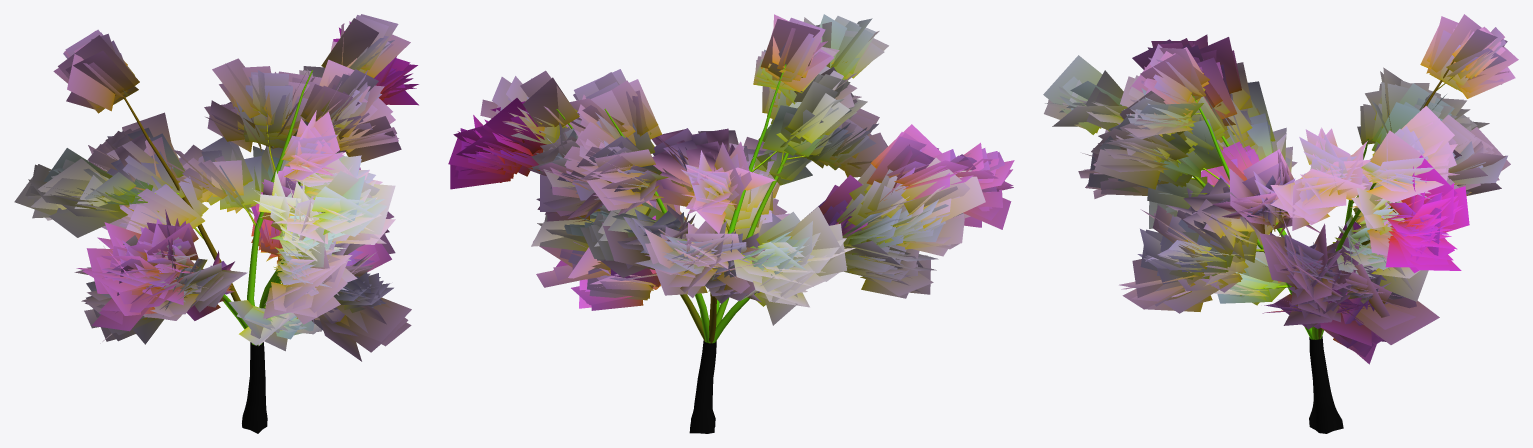
File: tree_zelkova_b.glb
3 renders of one model, left to right at view 1: azimuth 30°, elevation 25°; view 2: azimuth 150°, elevation 25°; view 3: azimuth 270°, elevation 25°, orthographic. The views are drawn at different scales.
Visible parts, largest first — view 1: tree_zelkova_b; view 2: tree_zelkova_b; view 3: tree_zelkova_b.
Boxes of the visible parts, bbox=[...] form: tree_zelkova_b: bbox=[14, 14, 418, 433]; tree_zelkova_b: bbox=[448, 14, 1014, 433]; tree_zelkova_b: bbox=[1043, 14, 1518, 433].
Bounding box in the file's own units: 17.14 × 13.4 × 15.34.
